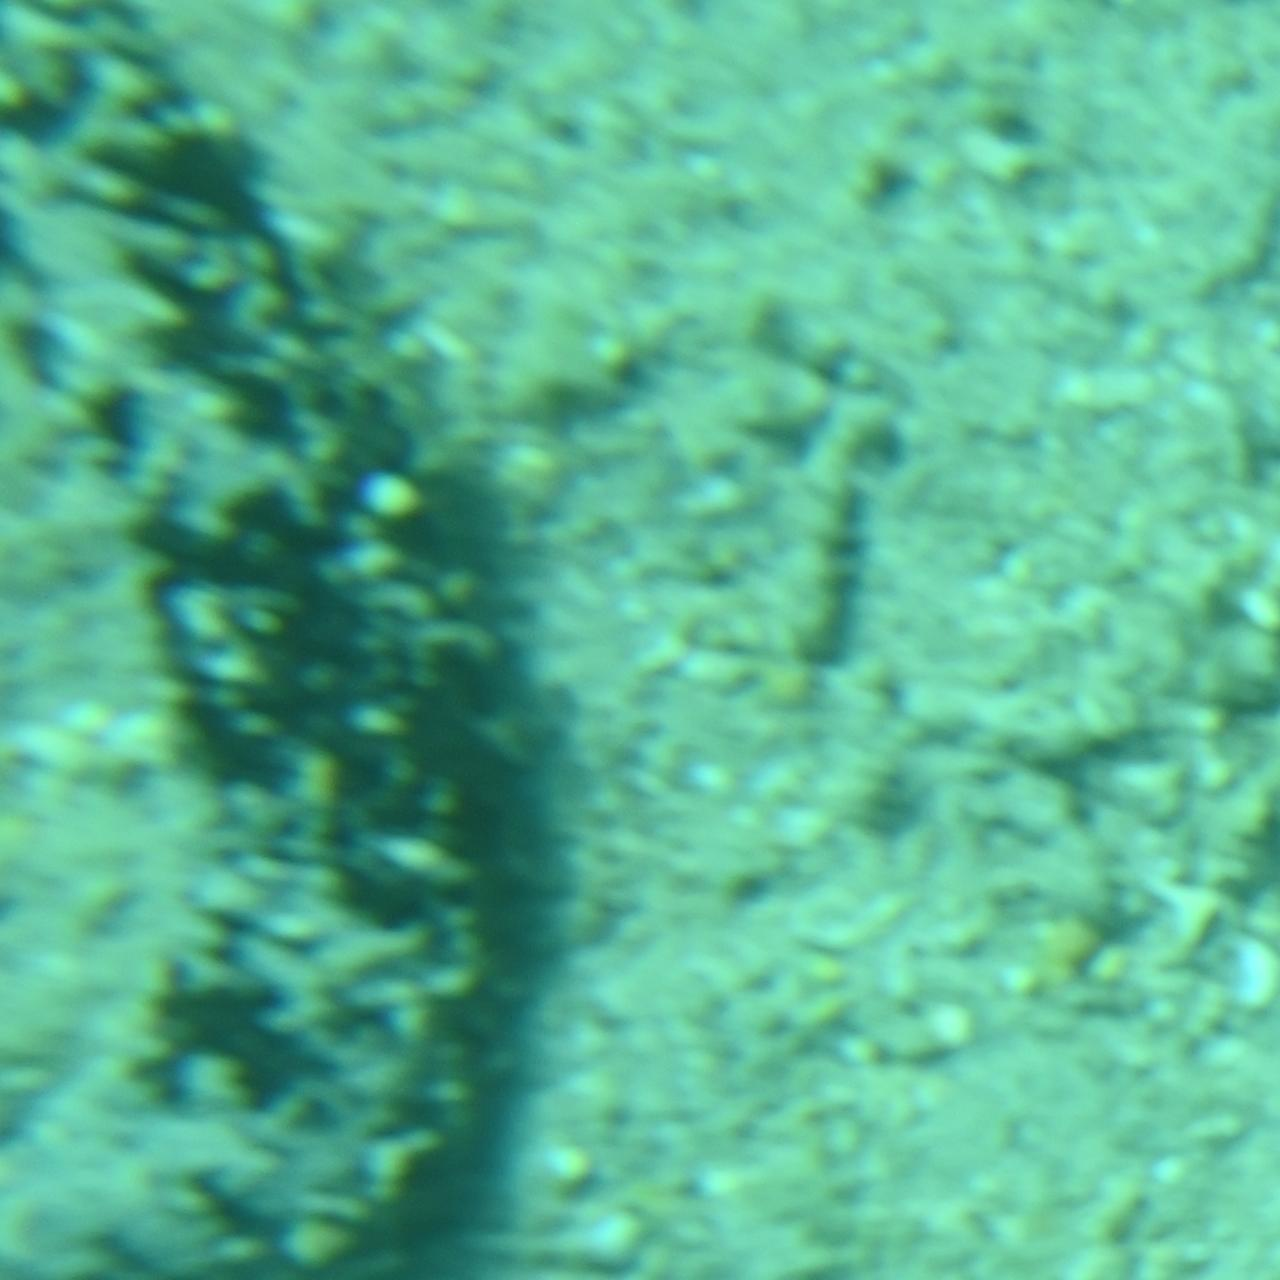Holothuria tubulosa: (0, 0, 576, 1280)
